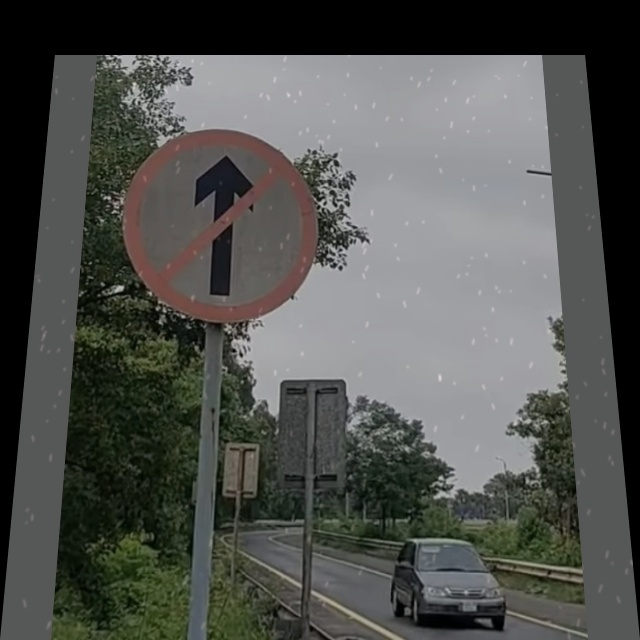No_Entry: (120, 131, 319, 323)
